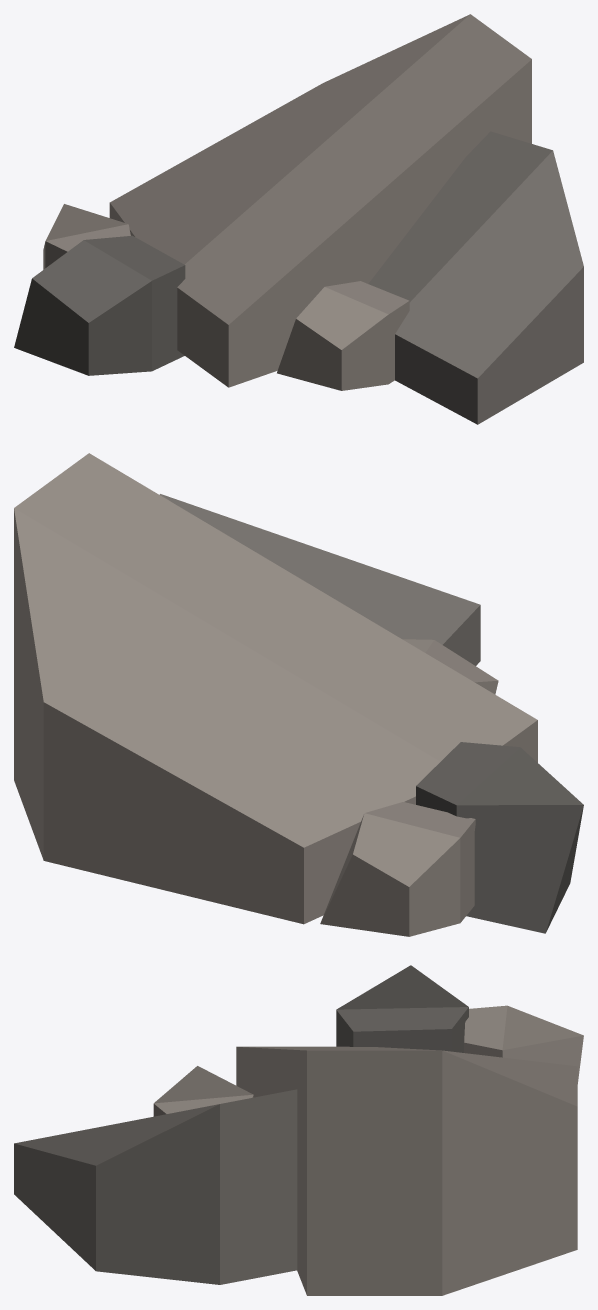
The model's file is shatteredrock1.fbx.
3 renders of one model, top to bottom at view 1: azimuth 30°, elevation 25°; view 2: azimuth 150°, elevation 25°; view 3: azimuth 270°, elevation 25°, orthographic. The views are drawn at different scales.
Visible parts, largest first — view 1: ShatteredRock1; view 2: ShatteredRock1; view 3: ShatteredRock1.
Part boxes in pixels (<box>): ShatteredRock1: <box>14,14,583,424</box>; ShatteredRock1: <box>14,453,583,936</box>; ShatteredRock1: <box>14,965,583,1295</box>.
Bounding box in the file's own units: 1.94 × 0.9523 × 1.92.
